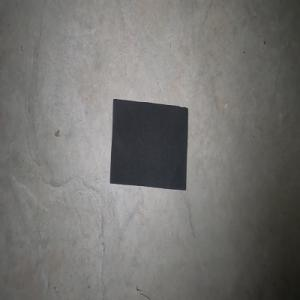PaintChip: (109, 98, 188, 190)
